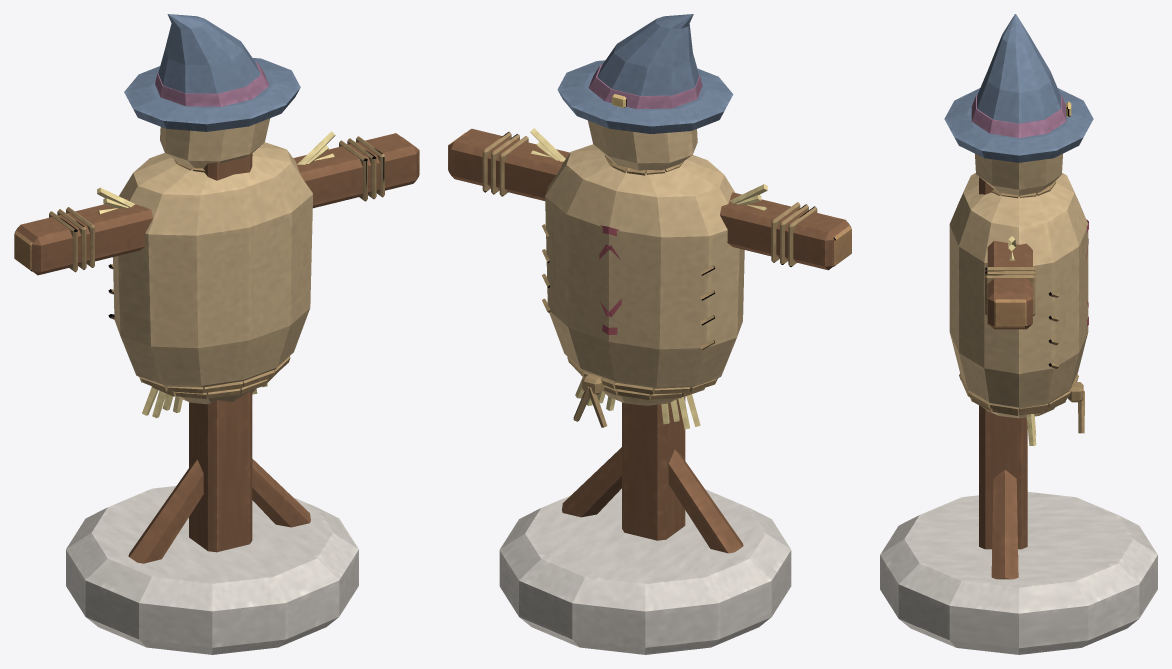
The model's file is training_dummy.glb.
3 views of the same model, side by side, from view 1: azimuth 30°, elevation 25°; view 2: azimuth 150°, elevation 25°; view 3: azimuth 270°, elevation 25° (orthographic). The views are drawn at different scales.
Visible parts, largest first — view 1: StuffedTorso, RoundStoneBase, CrossbarArms, WoodenPost, BentPointedHat, SmallHatBrim, SackHead, BaseBrace, BaseBrace.001, HatBand; view 2: StuffedTorso, RoundStoneBase, CrossbarArms, WoodenPost, BentPointedHat, SmallHatBrim, SackHead, BaseBrace, BaseBrace.001, HatBand; view 3: RoundStoneBase, StuffedTorso, BentPointedHat, WoodenPost, SmallHatBrim, BaseBrace.001, SackHead, CrossbarArms, HatBand, CrossbarEnd.001, ArmBinding.005.
Part boxes in pixels (x1,y1,x2,y2): StuffedTorso: [113, 142, 312, 404]; RoundStoneBase: [66, 486, 358, 654]; CrossbarArms: [15, 133, 418, 275]; WoodenPost: [189, 153, 252, 552]; BentPointedHat: [158, 14, 260, 93]; SmallHatBrim: [124, 58, 300, 131]; SackHead: [160, 118, 270, 168]; BaseBrace: [128, 459, 203, 563]; BaseBrace.001: [252, 459, 310, 527]; HatBand: [155, 62, 269, 106]; StuffedTorso: [545, 144, 744, 405]; RoundStoneBase: [499, 488, 791, 654]; CrossbarArms: [448, 128, 851, 270]; WoodenPost: [622, 396, 685, 540]; BentPointedHat: [597, 14, 699, 95]; SmallHatBrim: [557, 60, 733, 133]; SackHead: [588, 120, 697, 170]; BaseBrace: [668, 450, 743, 553]; BaseBrace.001: [562, 447, 621, 517]; HatBand: [588, 64, 702, 109]; RoundStoneBase: [880, 492, 1157, 654]; StuffedTorso: [949, 173, 1088, 418]; BentPointedHat: [977, 14, 1060, 123]; WoodenPost: [979, 177, 1027, 549]; SmallHatBrim: [944, 88, 1093, 162]; BaseBrace.001: [991, 470, 1018, 579]; SackHead: [975, 154, 1062, 195]; CrossbarArms: [987, 240, 1032, 329]; HatBand: [971, 95, 1066, 137]; CrossbarEnd.001: [994, 299, 1026, 327]; ArmBinding.005: [985, 274, 1035, 315].
Size of the model in its own units: 1.23 by 1.8 by 0.8.
Materials: 10 (10 with a texture image).
